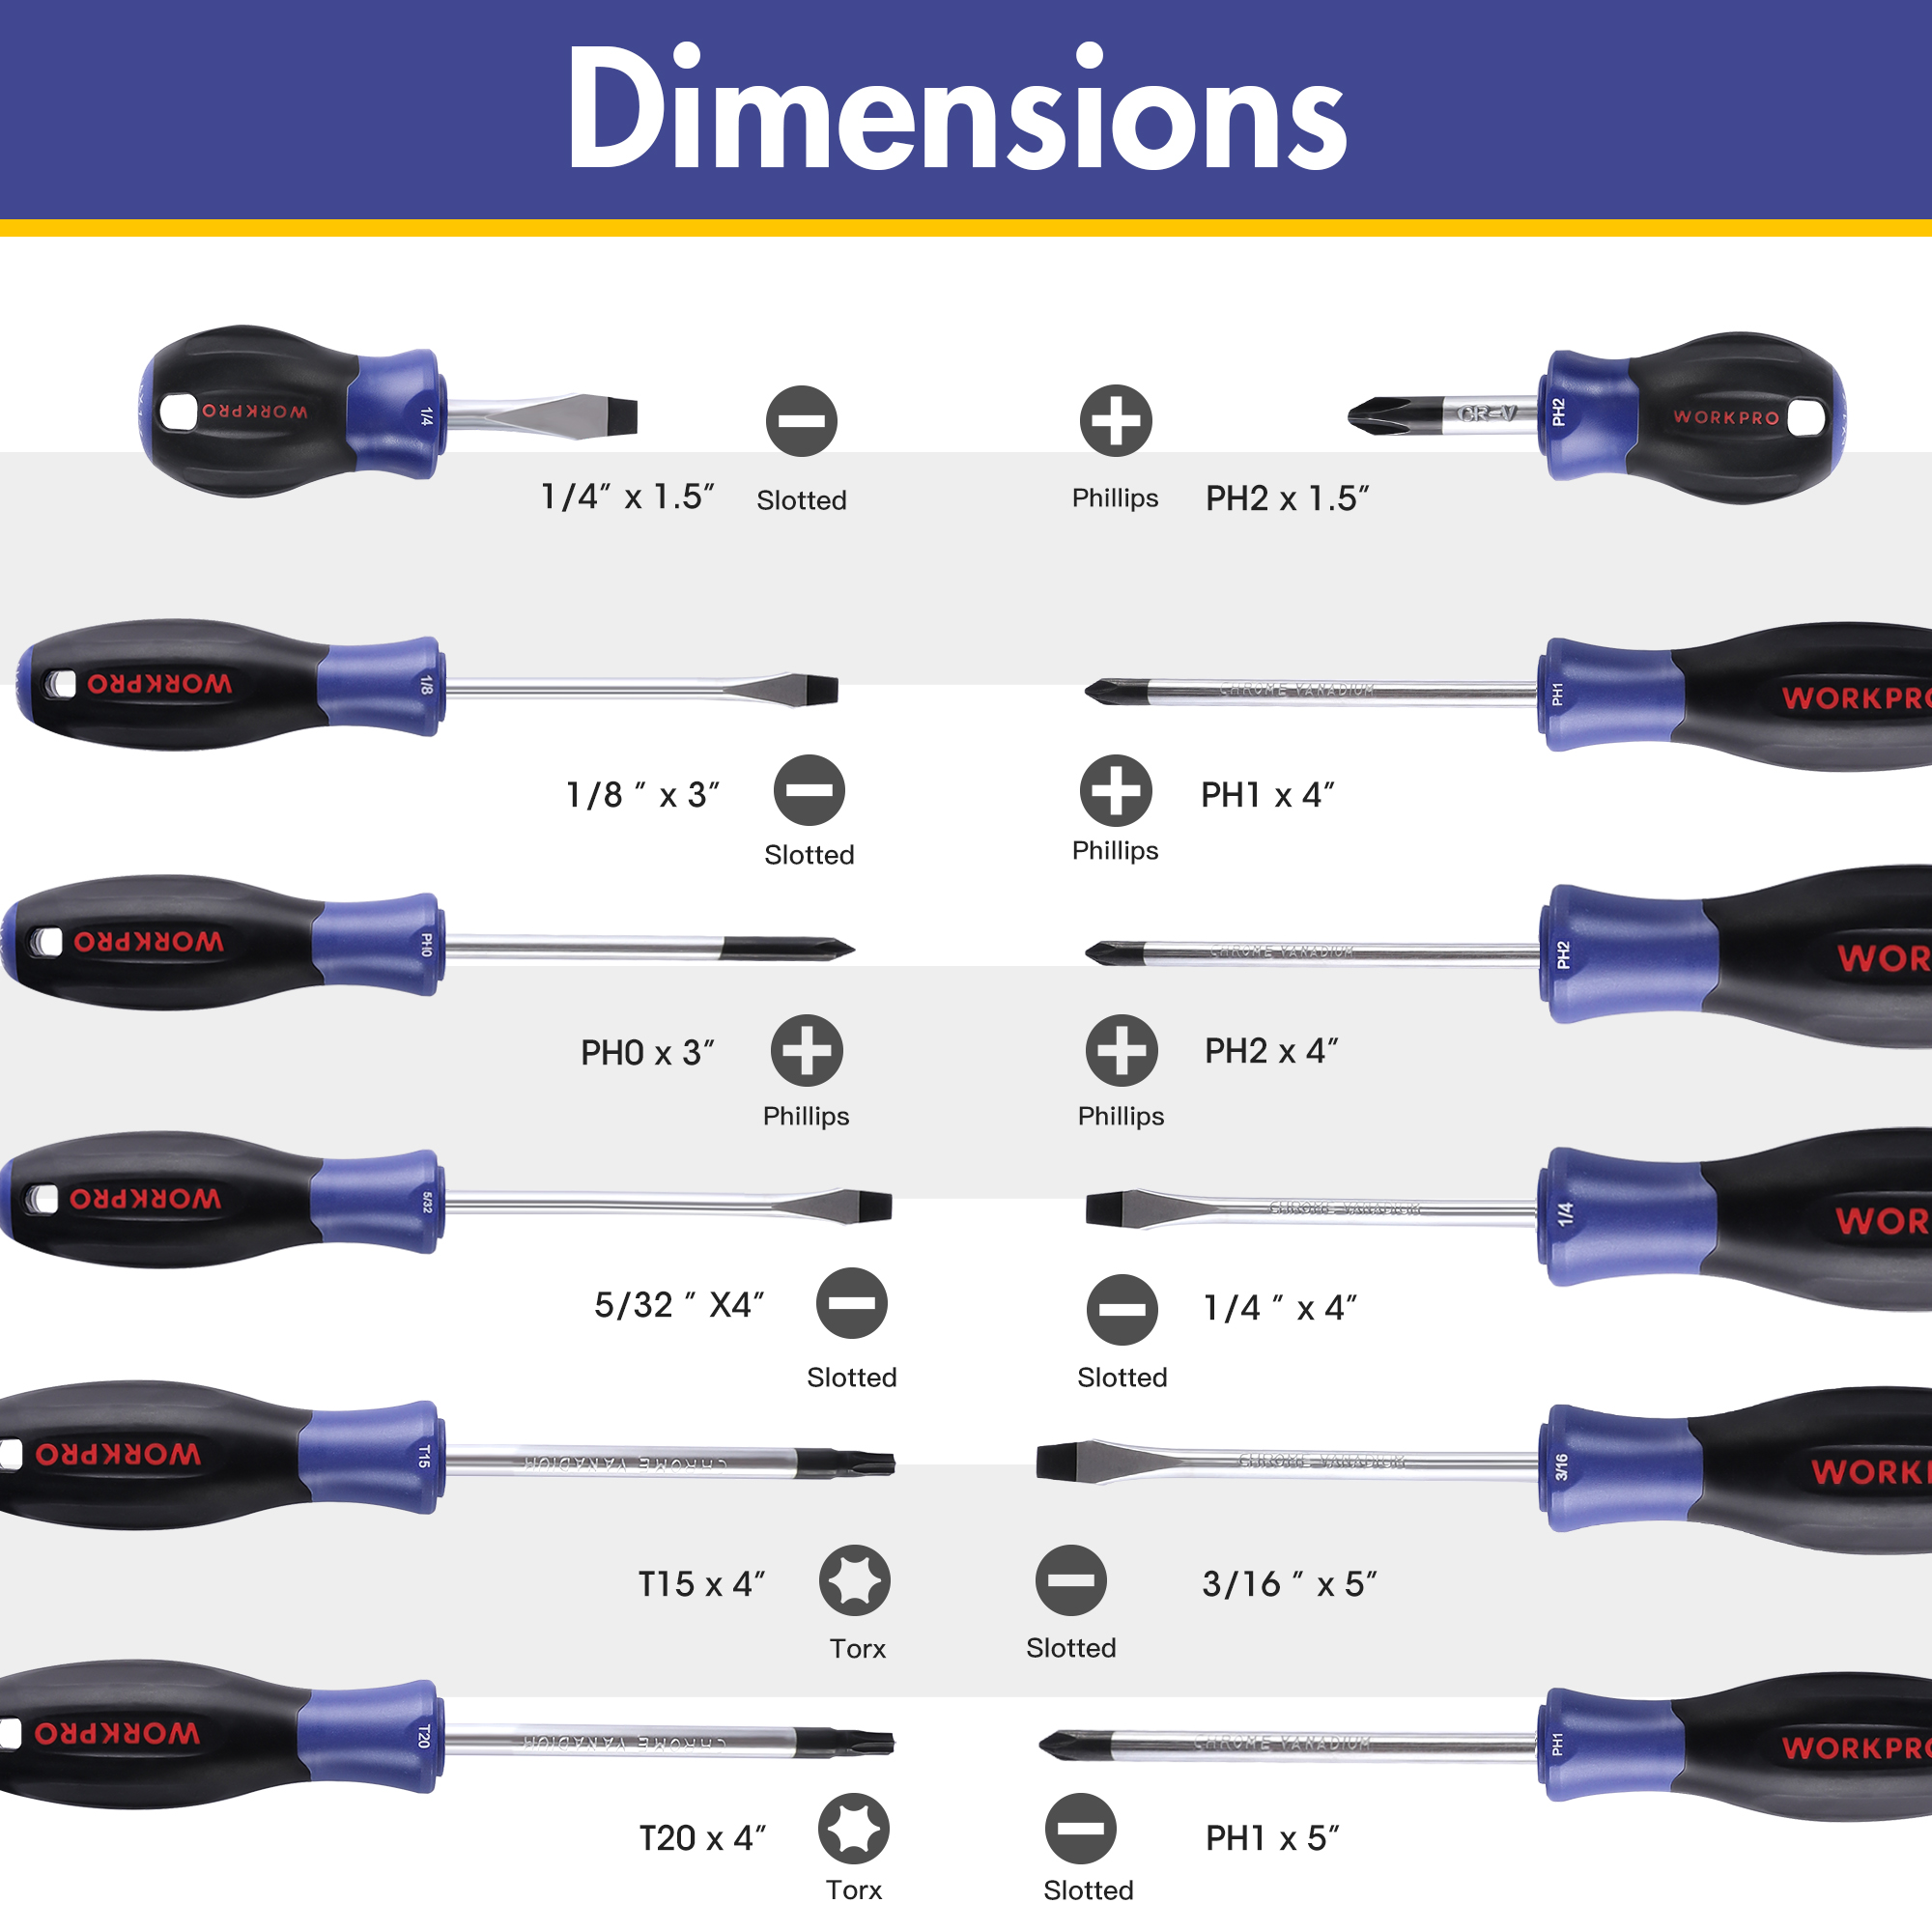screwdriver: (1086, 1122, 1928, 1311), (1033, 1387, 1930, 1557), (1085, 863, 1930, 1042), (2, 1656, 899, 1813), (4, 1380, 897, 1532), (1030, 1672, 1932, 1822), (5, 860, 860, 1016), (4, 1125, 895, 1272), (1079, 617, 1928, 770), (16, 610, 847, 755), (1345, 327, 1849, 506), (134, 318, 644, 478)
